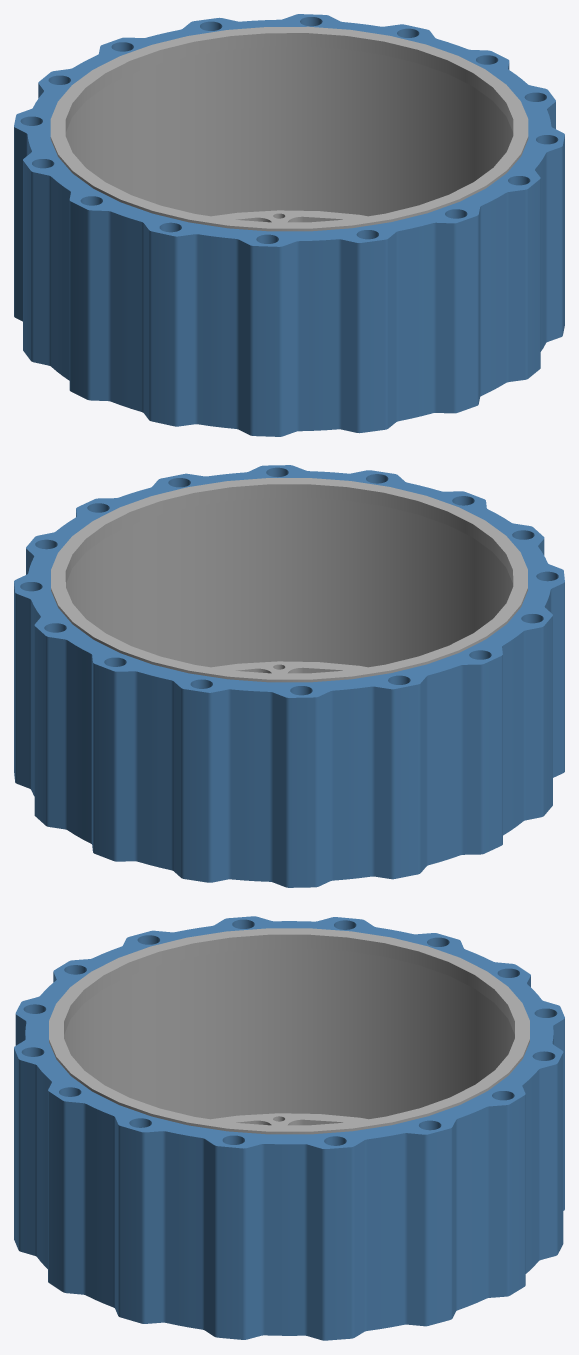
Rendered from rover_right_wheel.glb.
The picture shows the model from 3 angles, top to bottom: view 1: azimuth 30°, elevation 25°; view 2: azimuth 150°, elevation 25°; view 3: azimuth 270°, elevation 25°; orthographic projection.
Visible parts, largest first — view 1: 098057_A;1-1_4-20 X 3_4 Bolt.008; view 2: 098057_A;1-1_4-20 X 3_4 Bolt.008; view 3: 098057_A;1-1_4-20 X 3_4 Bolt.008.
Part boxes in pixels (left/top/right/bottom): 098057_A;1-1_4-20 X 3_4 Bolt.008: left=14, top=14, right=564, bottom=436; 098057_A;1-1_4-20 X 3_4 Bolt.008: left=14, top=465, right=564, bottom=887; 098057_A;1-1_4-20 X 3_4 Bolt.008: left=14, top=916, right=564, bottom=1340.
Bounding box in the file's own units: 23.18 × 9.95 × 23.18.
